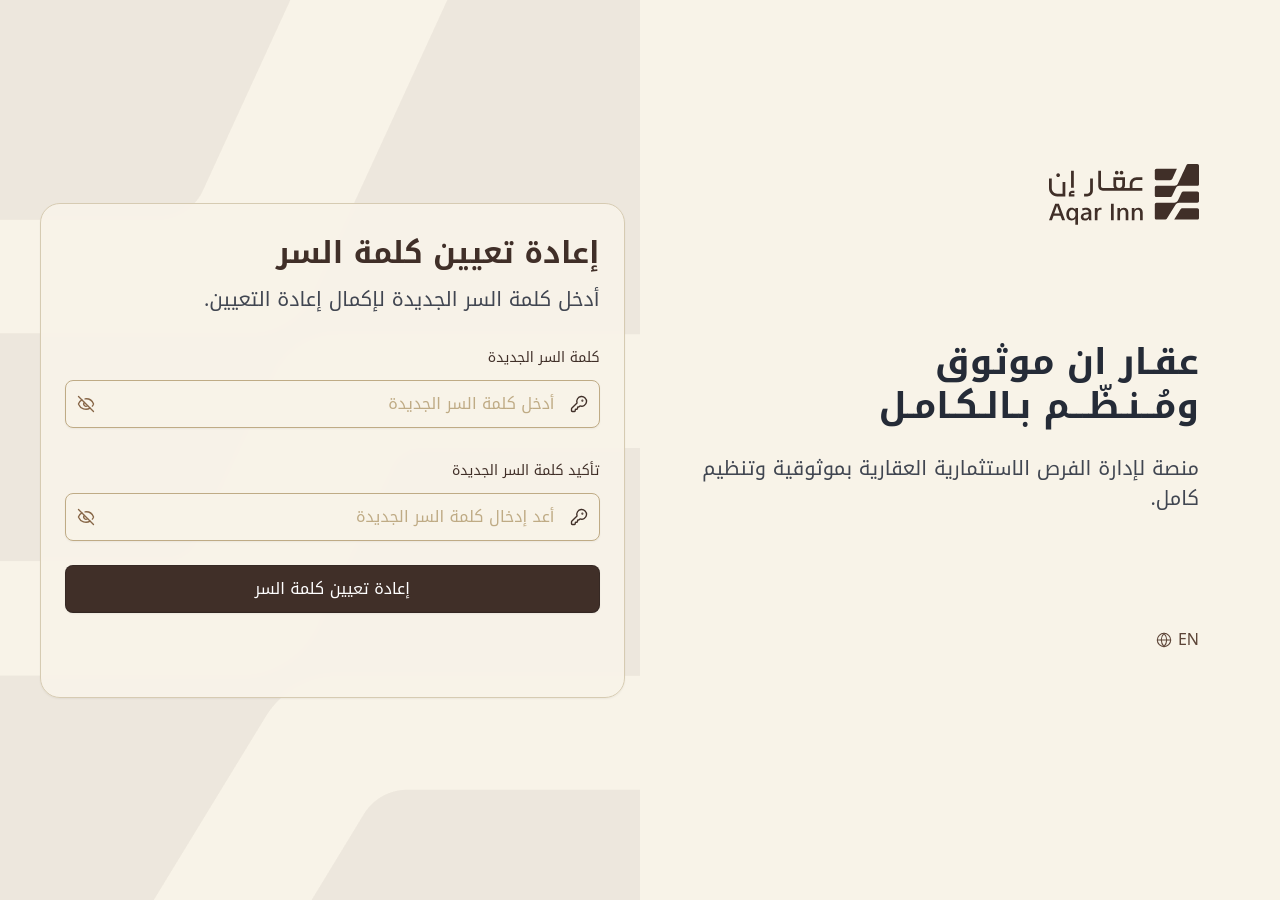
Auth flow routes › validates the reset password policy and matching confirmation
The image size is (1280, 900).
Expected: the heading "إعادة تعيين كلمة السر" is shown, [276, 224, 600, 280]
Type "newpass@1234" into the password field with placeholder "أدخل كلمة السر الجديدة" at (332, 404), box [65, 380, 600, 428]
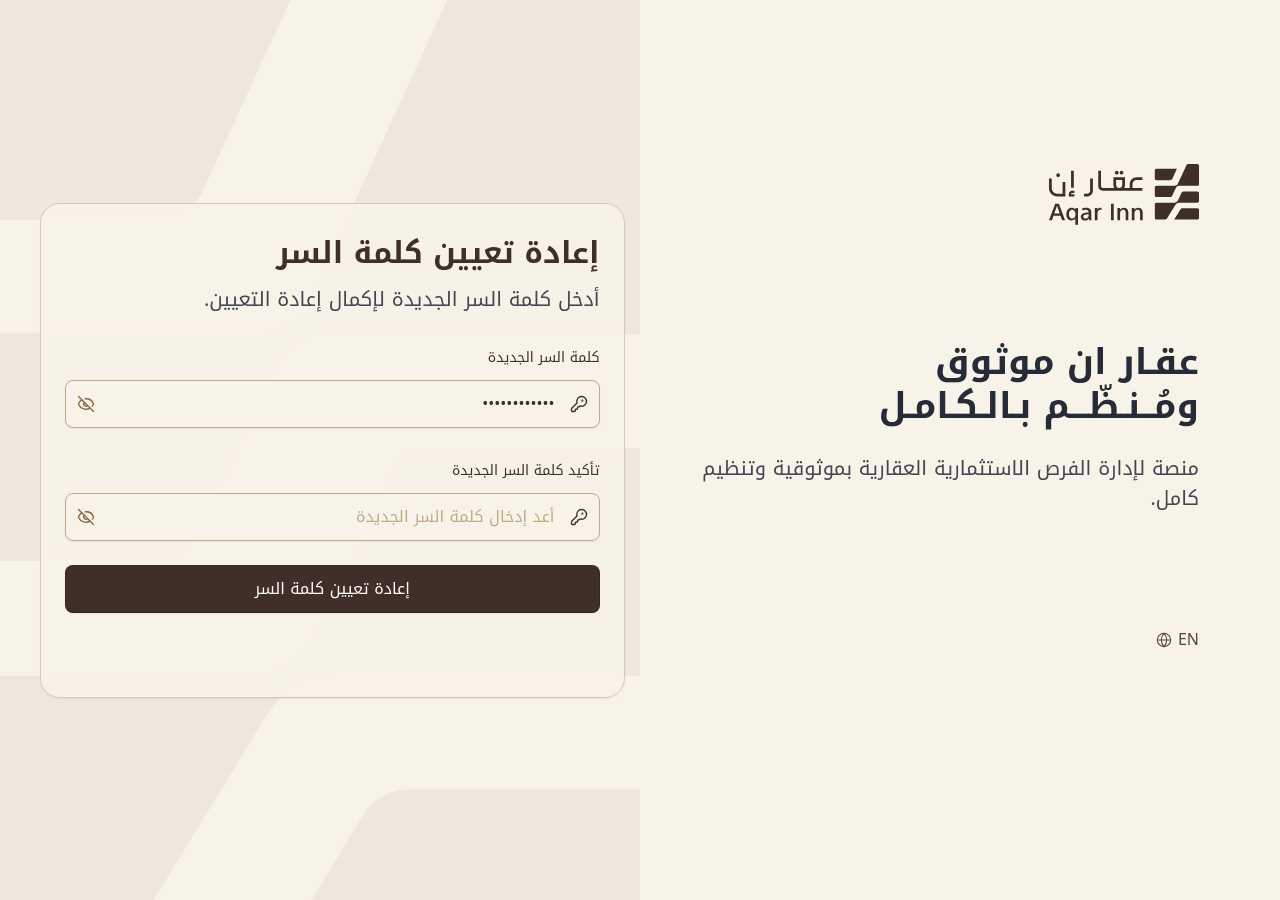
Type "Different@1234" into the password field with placeholder "أعد إدخال كلمة السر الجديدة" at (332, 516), box [65, 492, 600, 540]
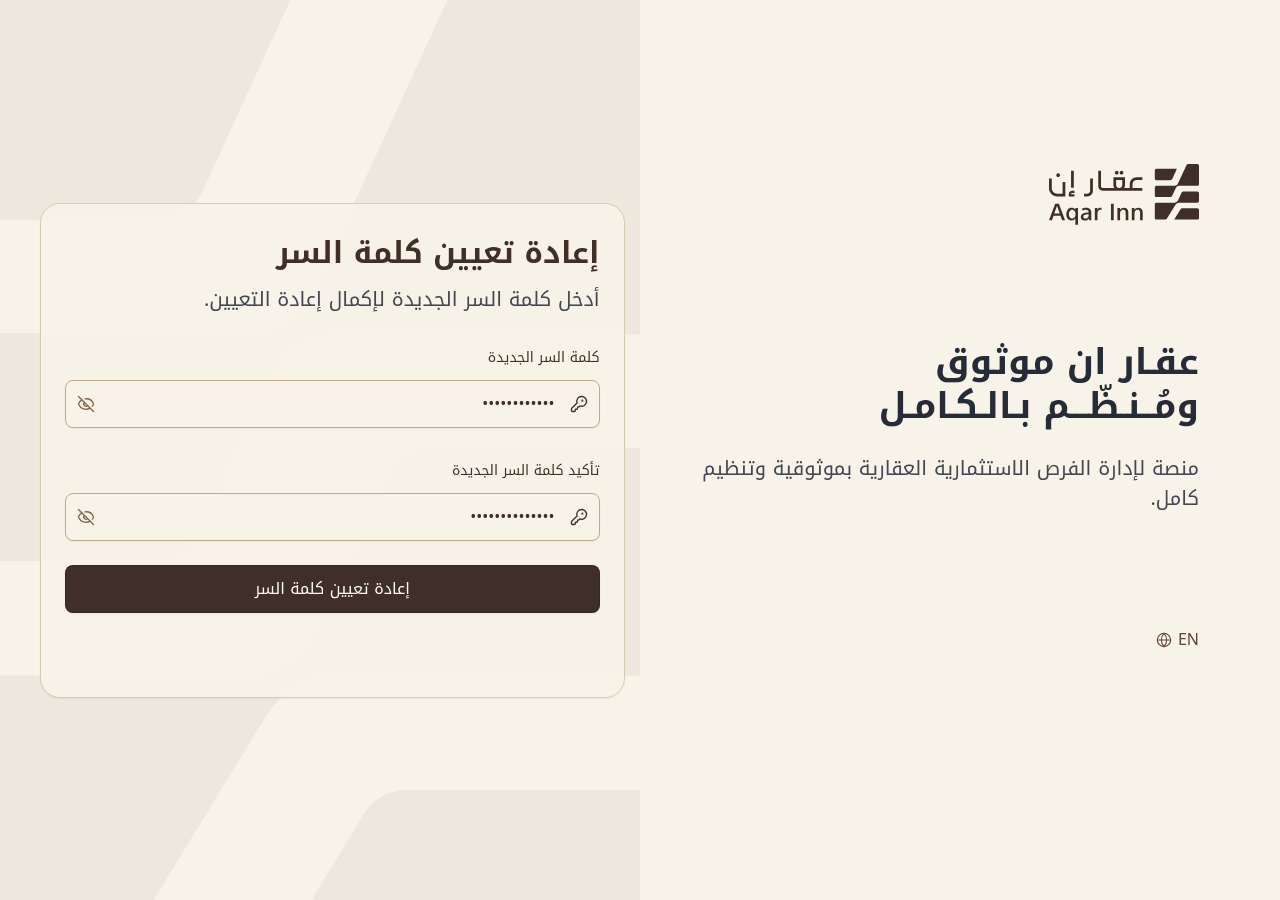
Click the button "إعادة تعيين كلمة السر" at (332, 588), box [65, 564, 600, 612]
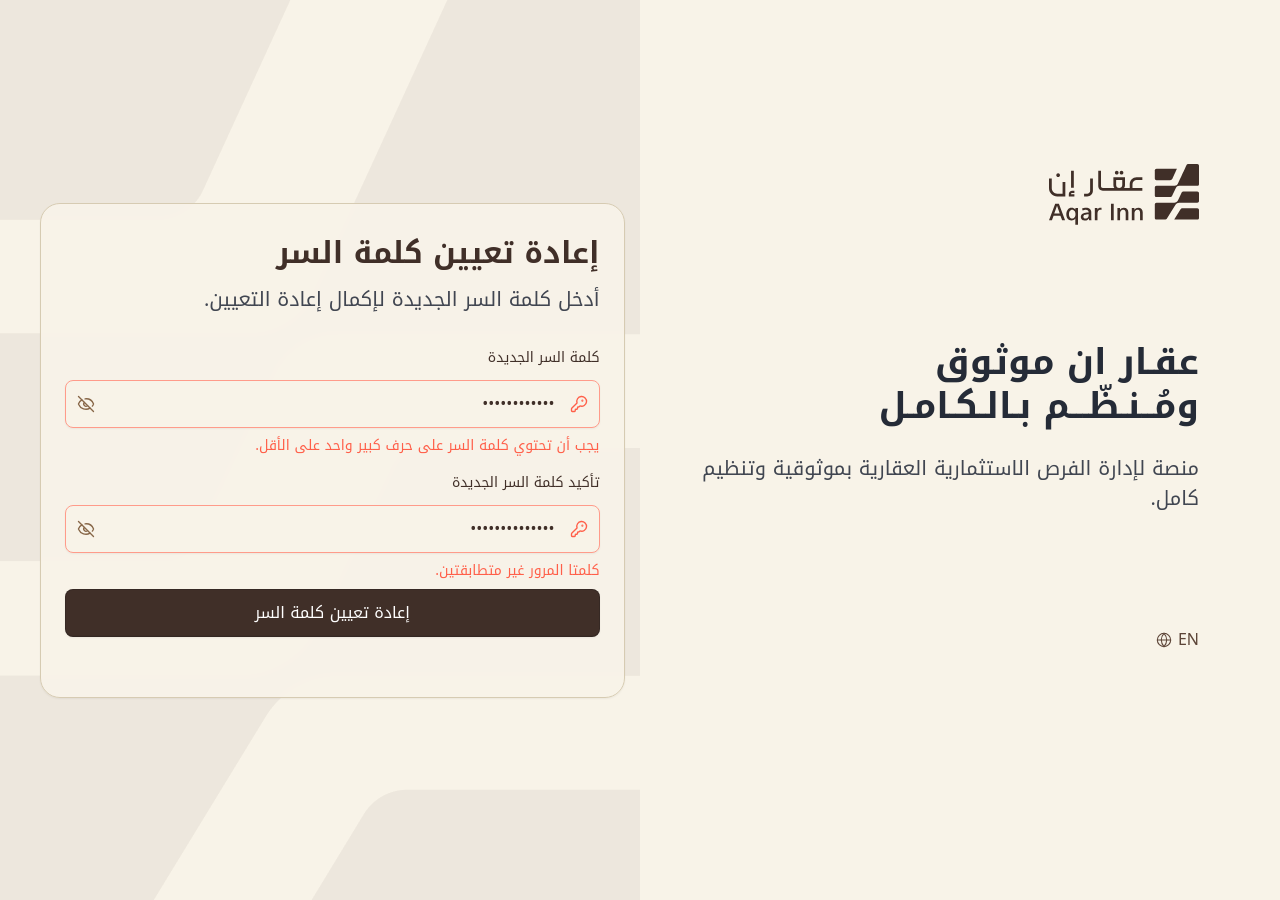
Expected: the text "يجب أن تحتوي كلمة السر على حرف كبير واحد على الأقل." is shown, [255, 432, 600, 458]
Expected: the text "كلمتا المرور غير متطابقتين." is shown, [435, 556, 600, 584]
